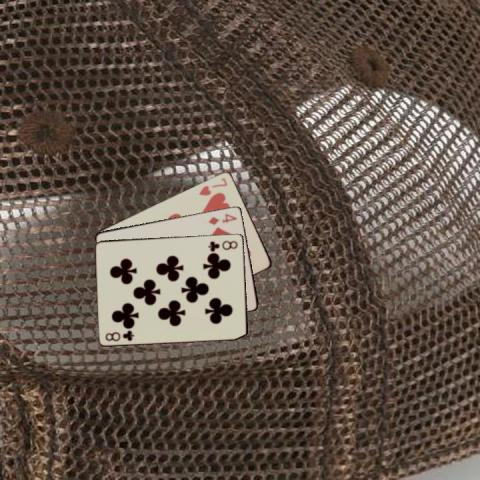4d: (205, 211, 239, 226)
7h: (196, 175, 229, 196)
8c: (102, 327, 135, 342), (205, 238, 239, 252)
